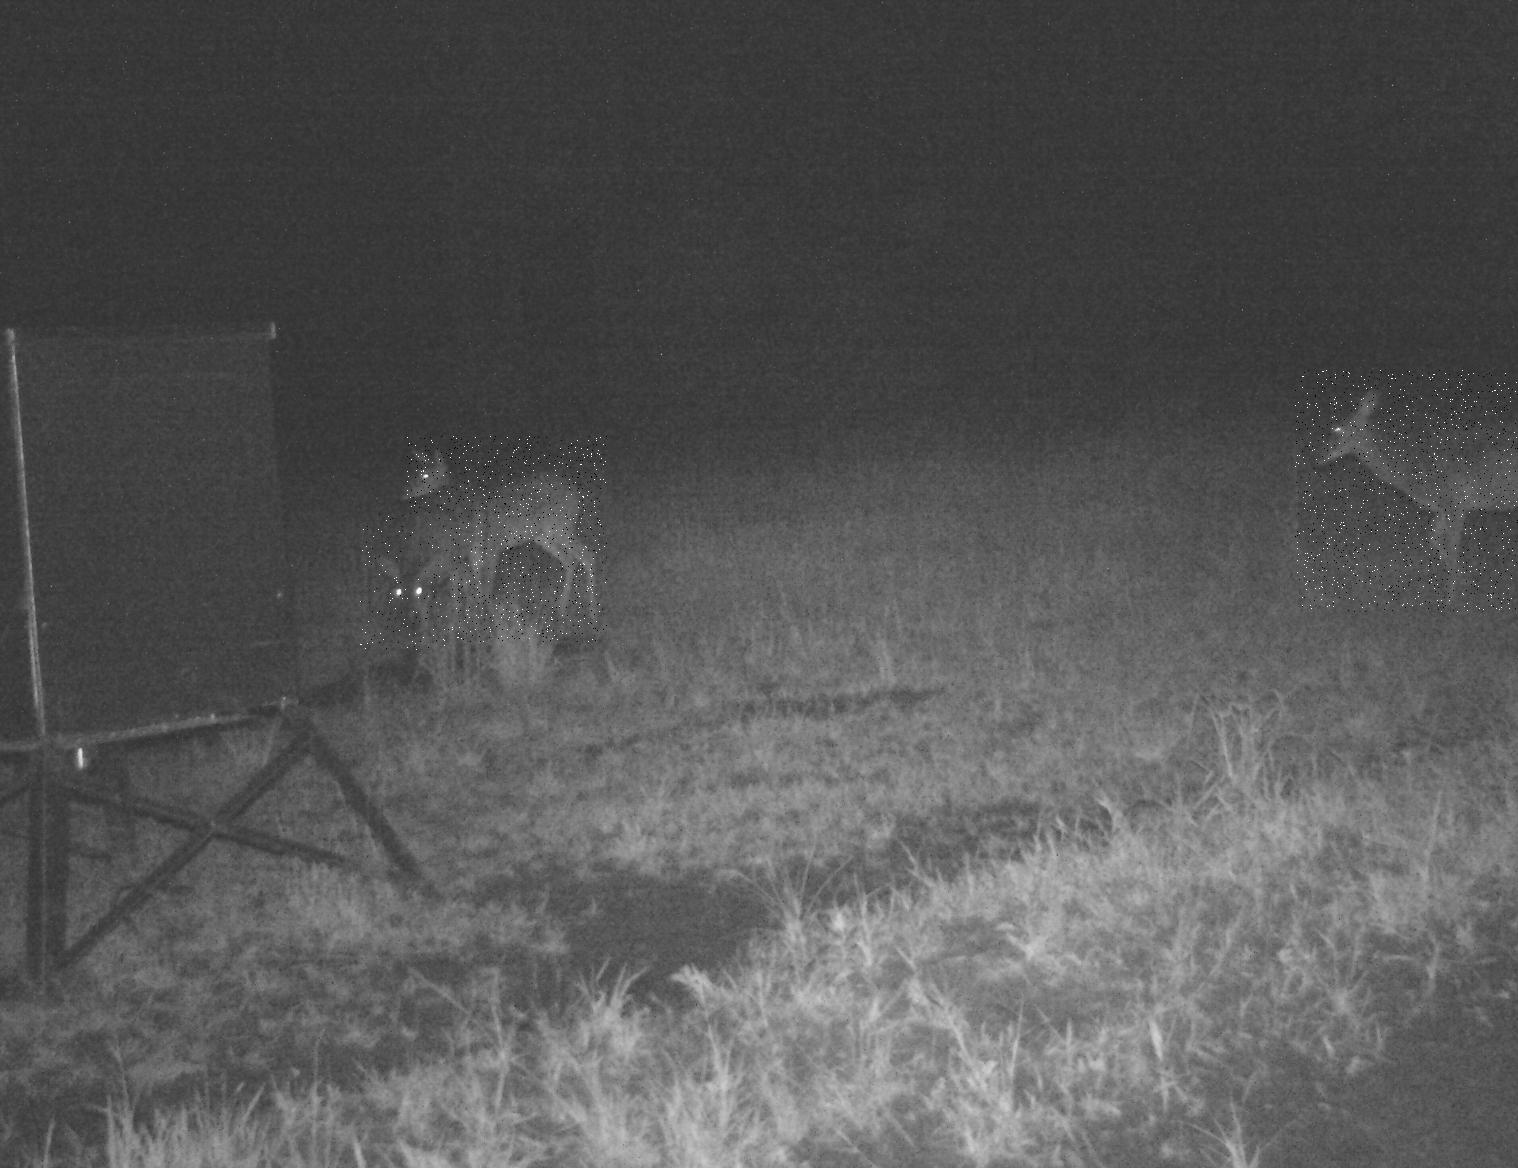Deer: (1295, 371, 1518, 612), (407, 437, 607, 642), (361, 514, 452, 650)
